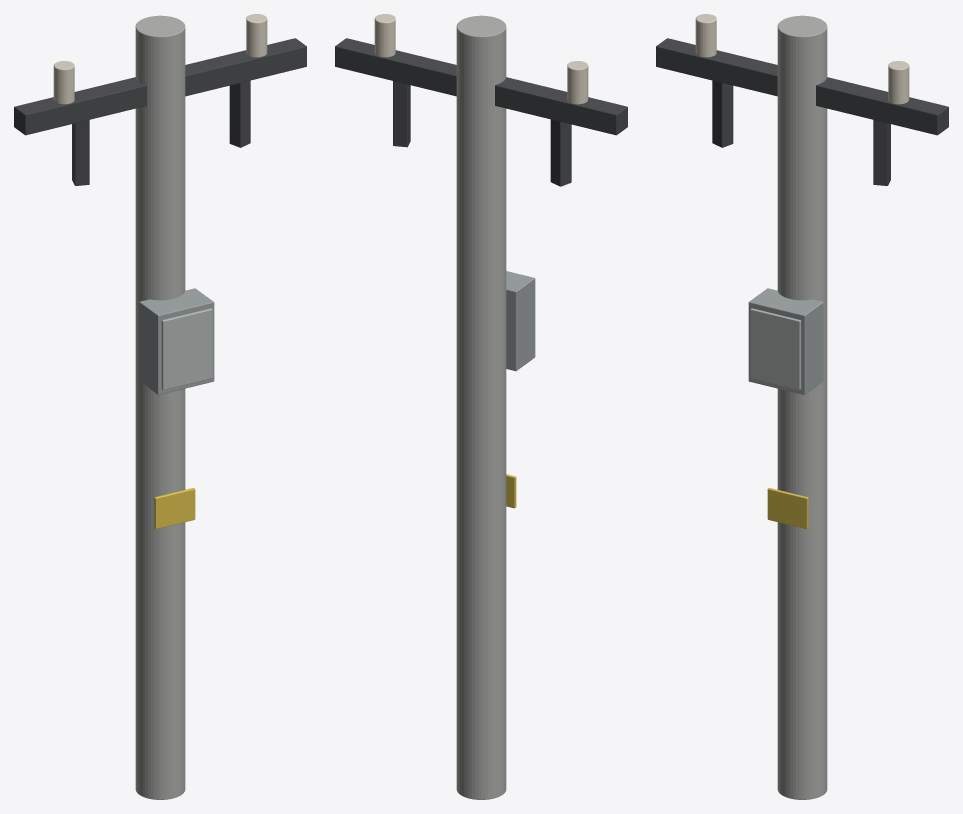
Rendered from utility-pole-01.glb.
3 views of the same model, side by side, from view 1: azimuth 30°, elevation 25°; view 2: azimuth 150°, elevation 25°; view 3: azimuth 330°, elevation 25° (orthographic).
Parts seen in each view (by area): view 1: utility-pole-01; view 2: utility-pole-01; view 3: utility-pole-01.
Boxes of the visible parts, x1=… form: utility-pole-01: x1=14, y1=14, x2=306, y2=799; utility-pole-01: x1=335, y1=14, x2=627, y2=799; utility-pole-01: x1=656, y1=14, x2=948, y2=799.
Size of the model in its own units: 1.7 by 4.4 by 0.418.
